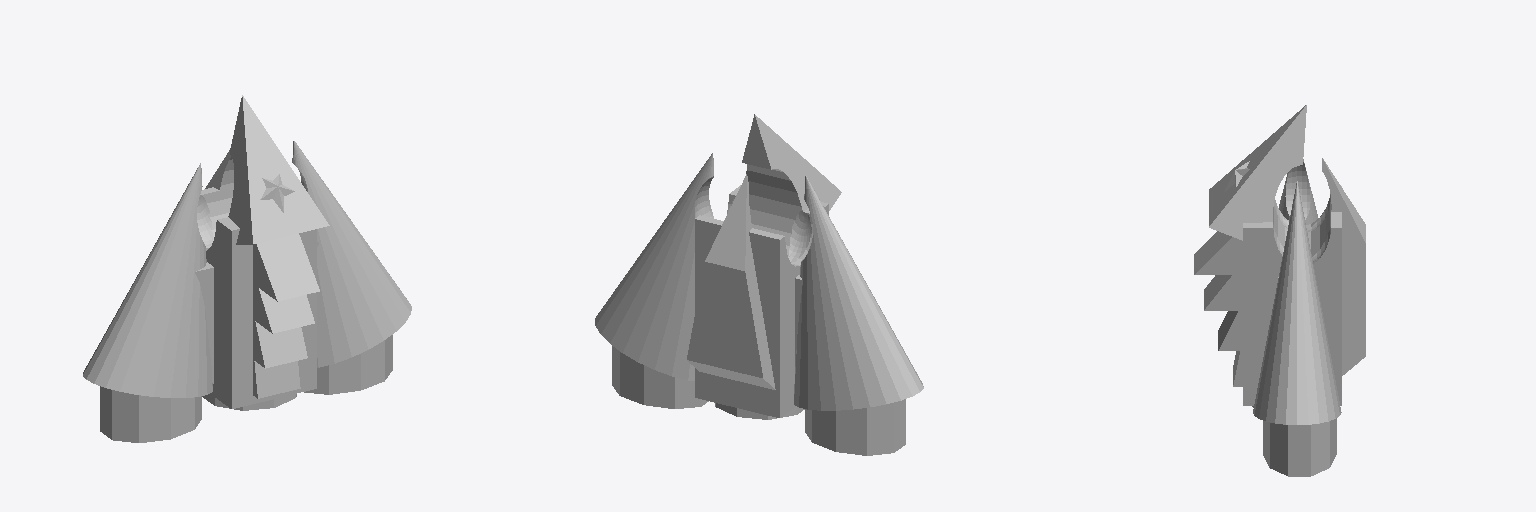
Rendered from tinker.obj.
The picture shows the model from 3 angles: view 1: azimuth 30°, elevation 25°; view 2: azimuth 150°, elevation 25°; view 3: azimuth 270°, elevation 25°; orthographic projection.
Parts seen in each view (by area): view 1: obj_0; view 2: obj_0; view 3: obj_0.
Boxes of the visible parts, x1=… form: obj_0: x1=83, y1=95, x2=411, y2=442; obj_0: x1=595, y1=114, x2=923, y2=455; obj_0: x1=1194, y1=105, x2=1365, y2=476.
Size of the model in its own units: 75.47 by 68 by 35.